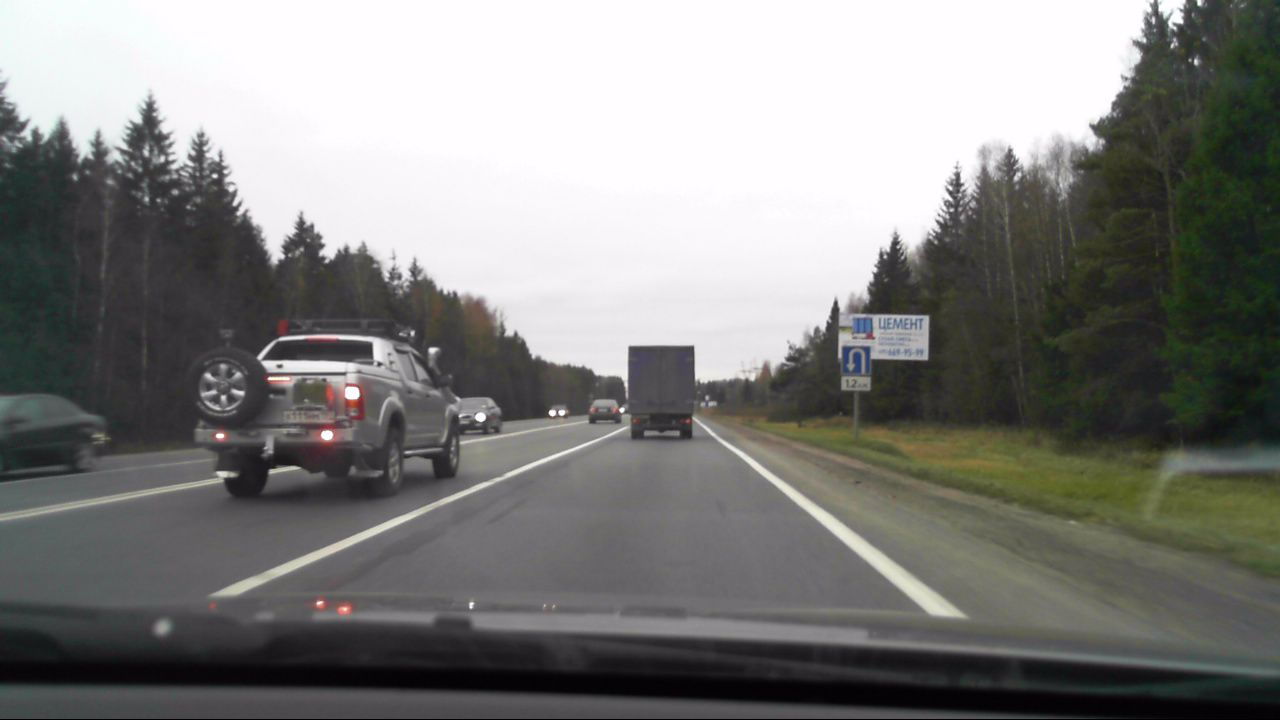U-turn: (842, 346, 870, 375)
